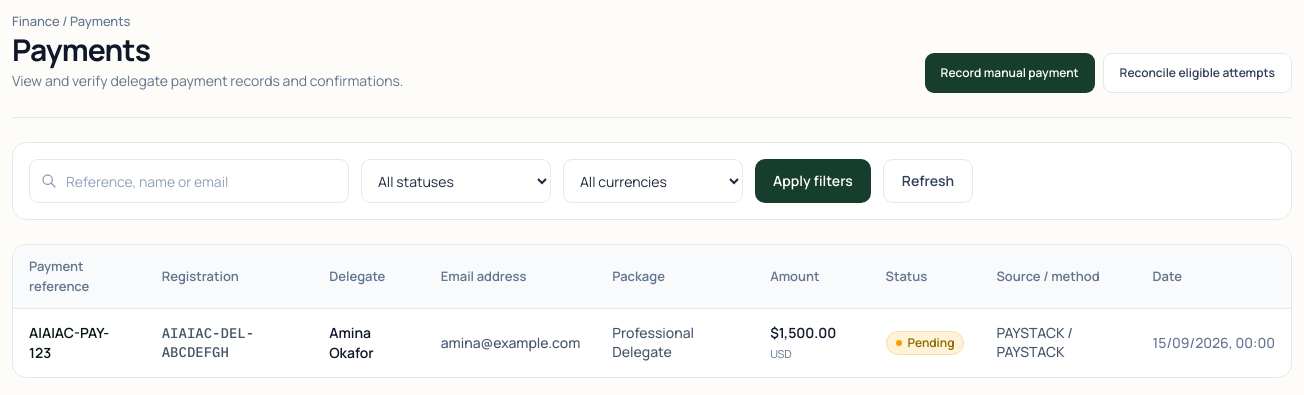
Test: admin payment table updates › shows a separate email column and updates status on refresh without blanking the row
The width and height of the screenshot is (1304, 395).
Check: the column heading "Email address" is shown, box [425,245,596,308]
Check: the link "amina@example.com" is shown, box [441,333,580,352]
Click the button "Refresh": (928, 181) [883,159,973,203]
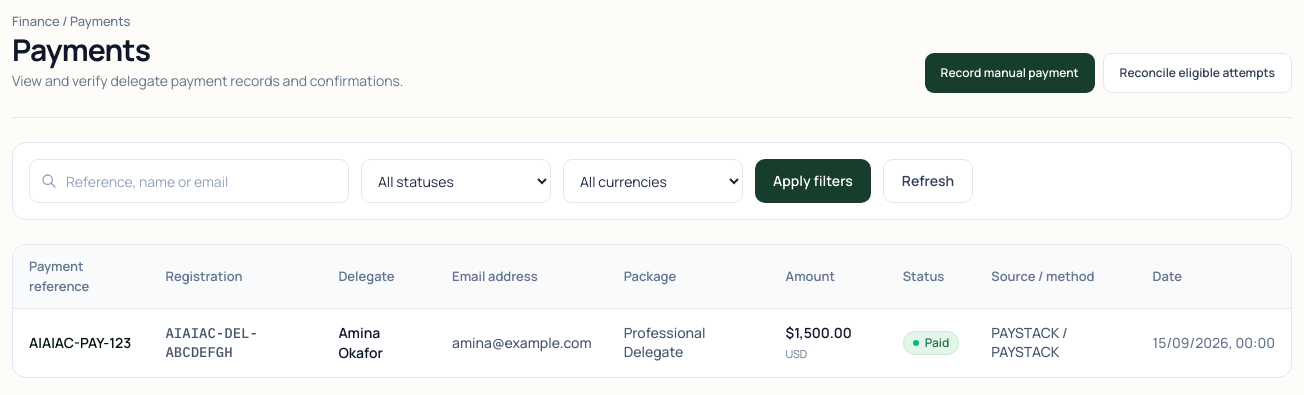
Check: the text "Amina Okafor" is shown, box [338,323,383,362]
Check: the text "paid" is shown, box [903,331,959,355]
